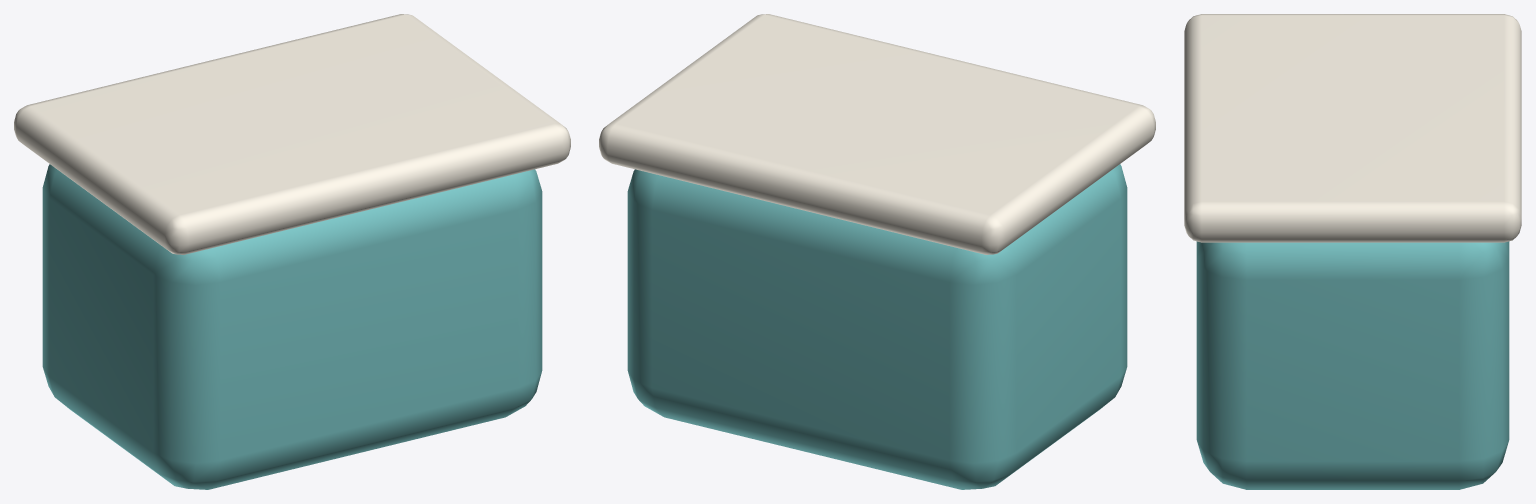
Rendered from ToyBox.fbx.
3 renders of one model, left to right at view 1: azimuth 30°, elevation 25°; view 2: azimuth 150°, elevation 25°; view 3: azimuth 270°, elevation 25°, orthographic.
Visible parts, largest first — view 1: ToyBox, Lid; view 2: ToyBox, Lid; view 3: Lid, ToyBox.
Part boxes in pixels (left/top/right/bottom): ToyBox: left=42, top=164, right=542, bottom=489; Lid: left=14, top=14, right=570, bottom=254; ToyBox: left=627, top=164, right=1127, bottom=489; Lid: left=599, top=14, right=1155, bottom=254; Lid: left=1184, top=14, right=1521, bottom=242; ToyBox: left=1196, top=241, right=1509, bottom=489.
Size of the model in its own units: 38 by 26.75 by 27.
